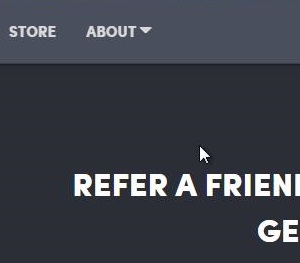cursor: (198, 145, 212, 165)
